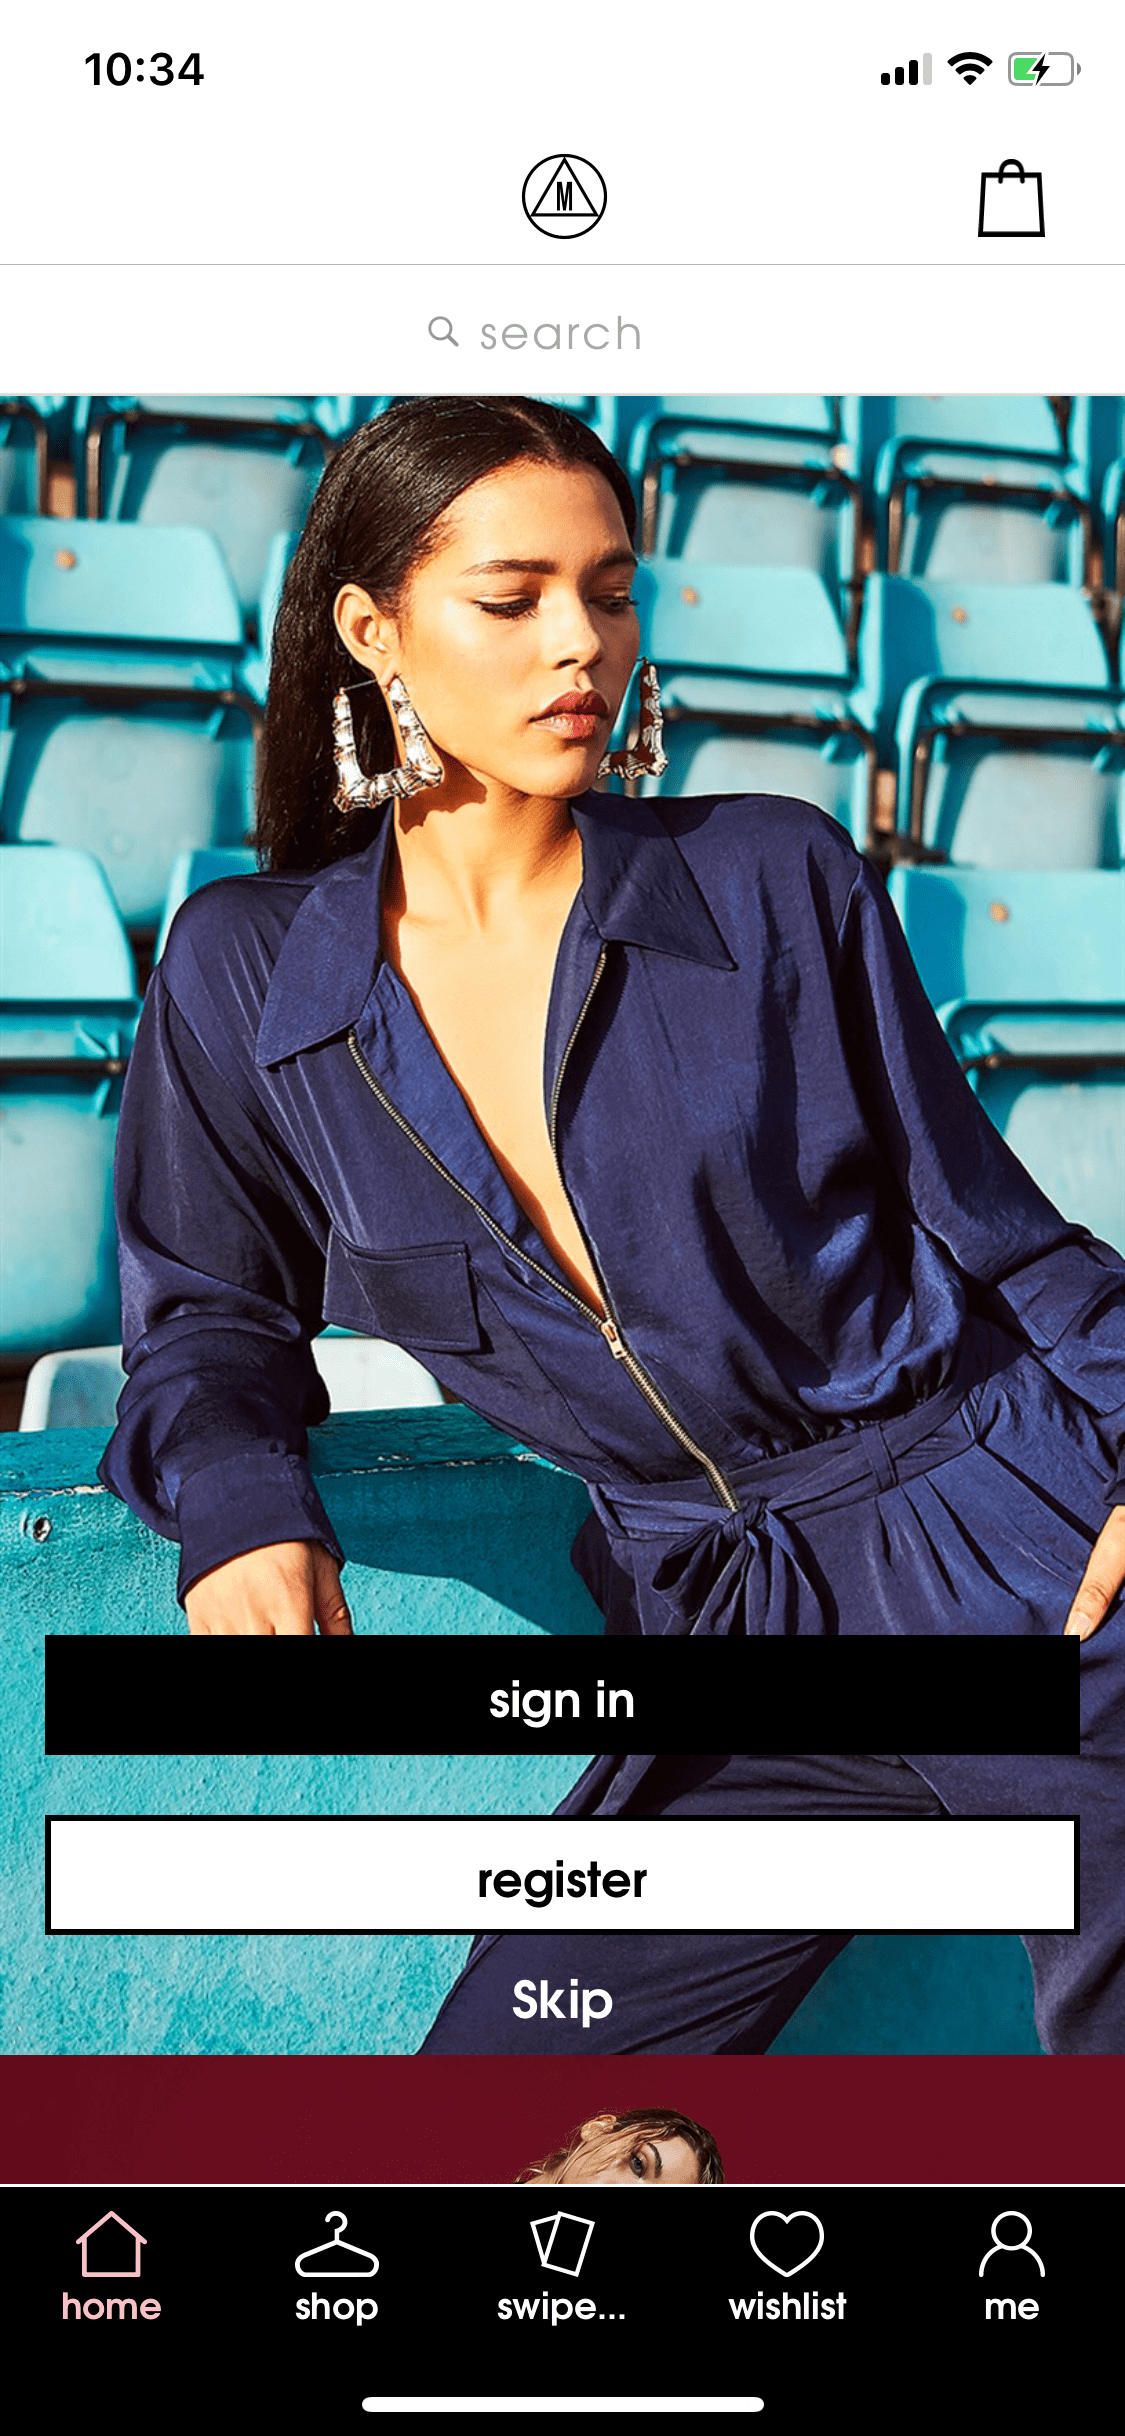Buttons: (36, 1799, 1089, 1950), (28, 1620, 1097, 1762), (934, 140, 1078, 270), (461, 1954, 660, 2038)
